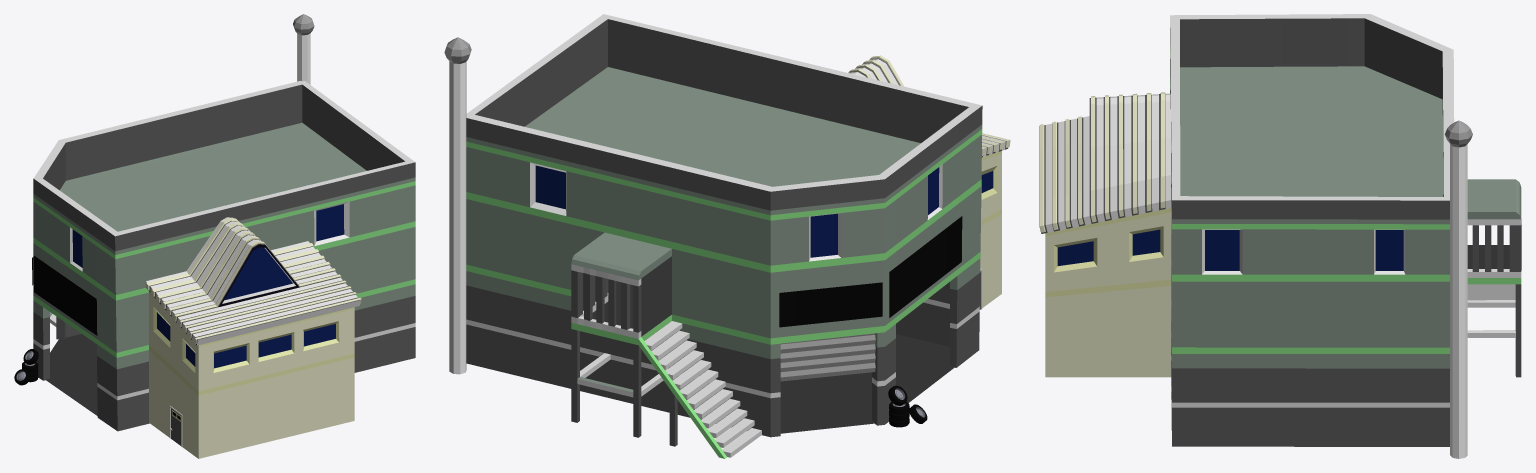
The model's file is AlexBuildingV2.fbx.
3 renders of one model, left to right at view 1: azimuth 30°, elevation 25°; view 2: azimuth 150°, elevation 25°; view 3: azimuth 270°, elevation 25°, orthographic. The views are drawn at different scales.
Visible parts, largest first — view 1: Building, Office Building, Building Floor, Alex Sign 1, Detail Spire, RV Wheels.001; view 2: Building, Building Floor, Detail Spire, Stairs, Office Building, Grate Door, Alex Sign 2, Alex Sign 1, RV Wheels.001; view 3: Building, Office Building, Detail Spire, Stairs.
Part boxes in pixels (x1,y1,x2,y2): Building: (33,81,415,431); Office Building: (145,217,361,458); Building Floor: (45,334,97,415); Alex Sign 1: (34,255,97,335); Detail Spire: (293,14,314,84); RV Wheels.001: (14,349,38,385); Building: (466,14,982,458); Building Floor: (780,334,954,433); Detail Spire: (444,37,471,374); Stairs: (644,321,761,457); Office Building: (848,55,1010,309); Grate Door: (780,333,875,381); Alex Sign 2: (779,282,882,327); Alex Sign 1: (889,216,962,317); RV Wheels.001: (888,385,927,427); Building: (1170,14,1521,446); Office Building: (1039,92,1171,377); Detail Spire: (1444,120,1472,458); Stairs: (1467,284,1515,300).
Bounding box in the file's own units: 5400 × 5539 × 4136.
